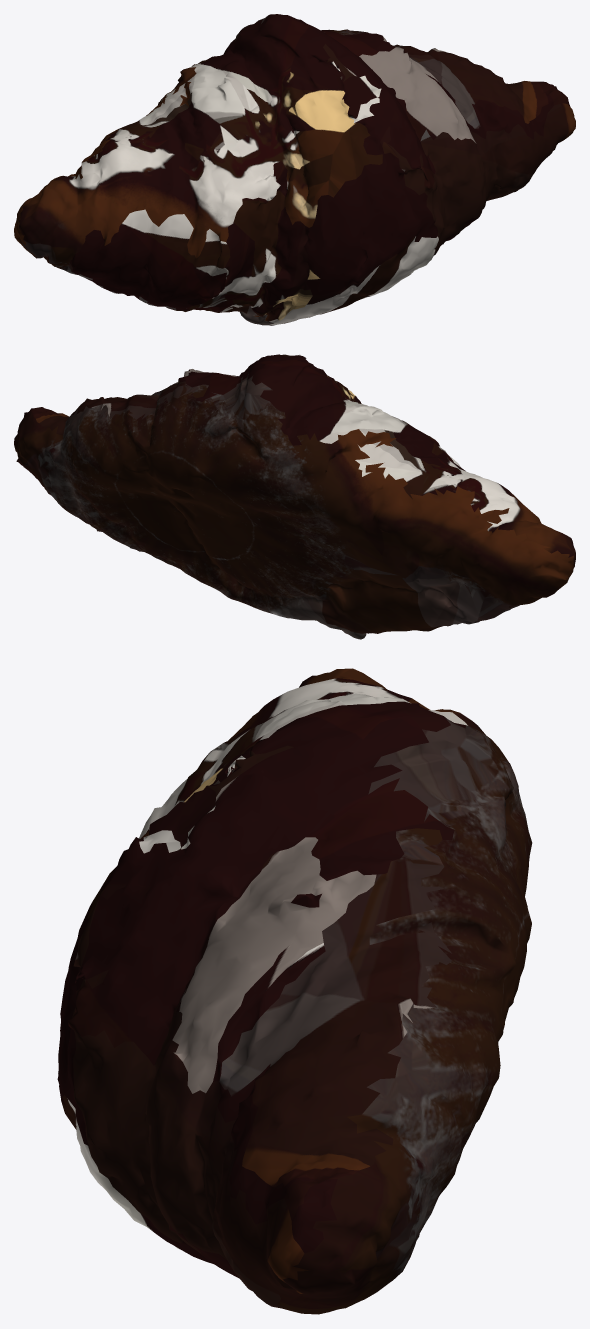
3 views of the same model, one above another, from view 1: azimuth 30°, elevation 25°; view 2: azimuth 150°, elevation 25°; view 3: azimuth 270°, elevation 25° (orthographic). The views are drawn at different scales.
Bounding box in the file's own units: 1 × 0.4737 × 0.3773.
